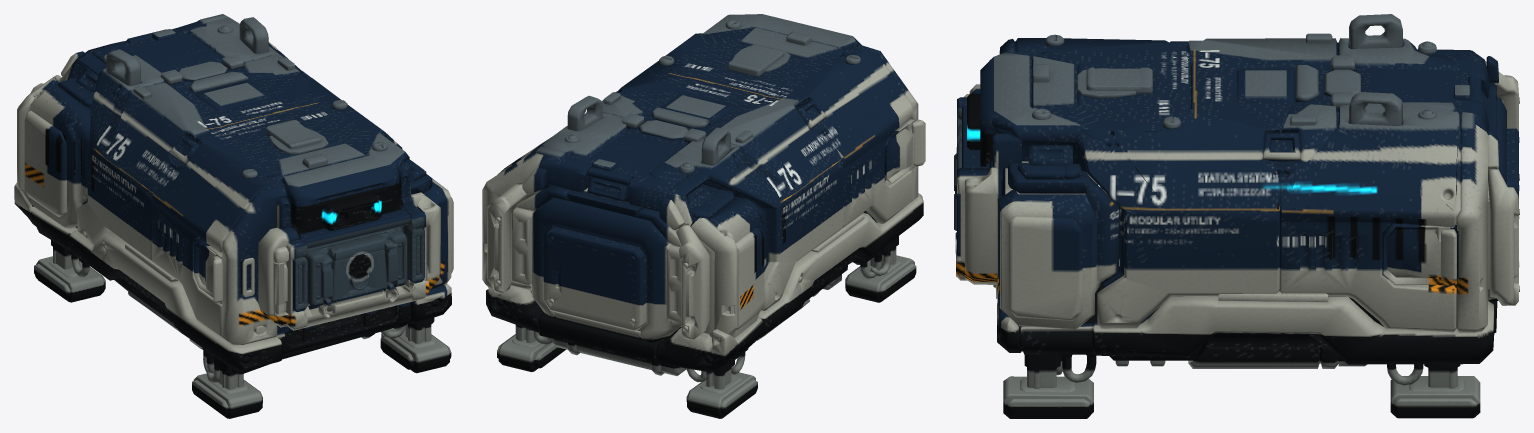
3 views of the same model, side by side, from view 1: azimuth 30°, elevation 25°; view 2: azimuth 150°, elevation 25°; view 3: azimuth 270°, elevation 25° (orthographic). The views are drawn at different scales.
Parts seen in each view (by area): view 1: I75_V02_Surface_R01; view 2: I75_V02_Surface_R01; view 3: I75_V02_Surface_R01.
Boxes of the visible parts, x1,y1,x2,y2 form: I75_V02_Surface_R01: (14, 14, 453, 418); I75_V02_Surface_R01: (482, 14, 925, 418); I75_V02_Surface_R01: (954, 14, 1519, 418).
Bounding box in the file's own units: 0.4803 × 0.4371 × 0.75.
Materials: 1 (1 with a texture image).
